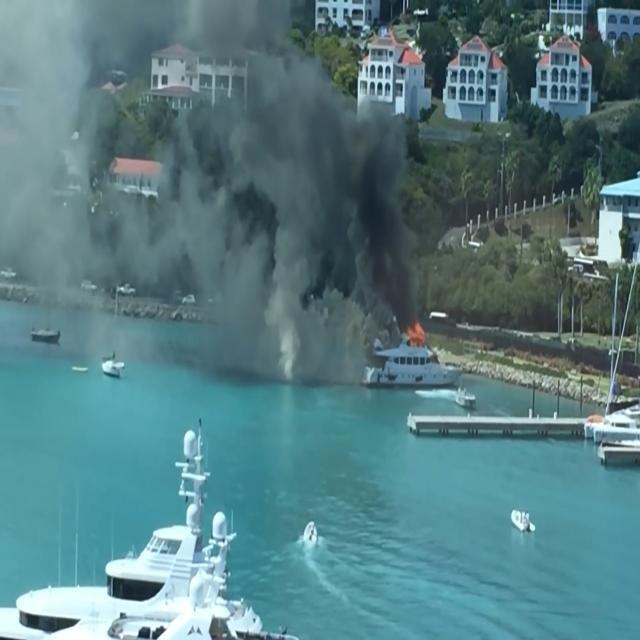Smoke: (243, 51, 322, 355), (330, 92, 418, 342)
